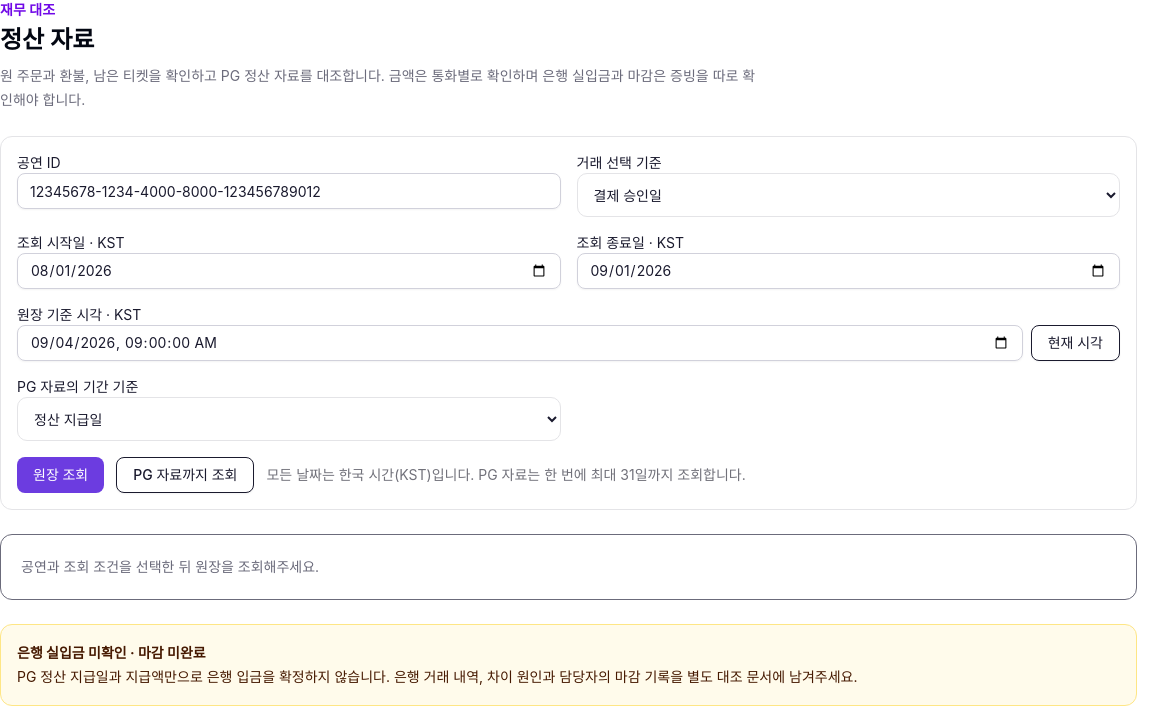
Finance ledger dashboard › explains the provider date limit before making an oversized request
Click the button "PG 자료까지 조회": (185, 475) [116, 457, 254, 493]
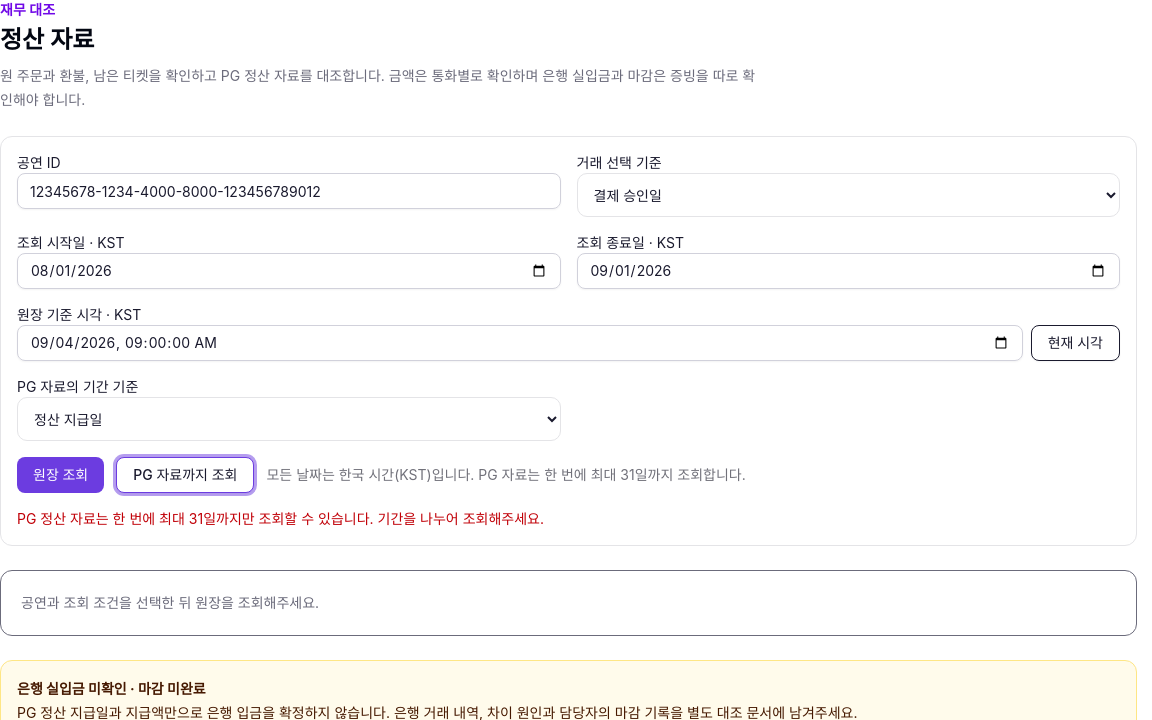
Result: the message "PG 정산 자료는 한 번에 최대 31일까지만 조회할 수 있습니다. 기간을 나누어 조회해주세요." is shown at [17, 510, 544, 527]
